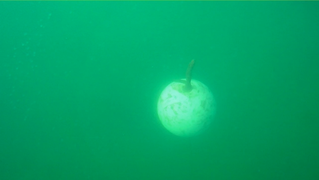buoy: (155, 78, 217, 139)
